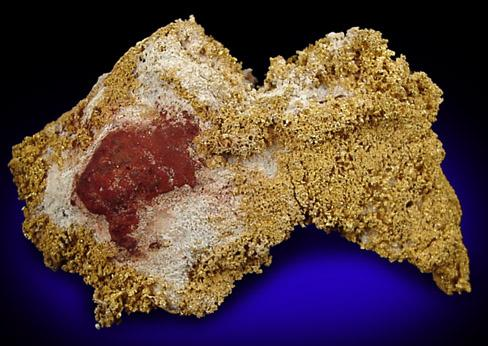gold: (8, 92, 298, 328), (266, 27, 472, 294), (155, 15, 244, 102), (183, 84, 271, 157), (99, 46, 142, 104), (160, 76, 210, 112), (80, 98, 119, 128)
